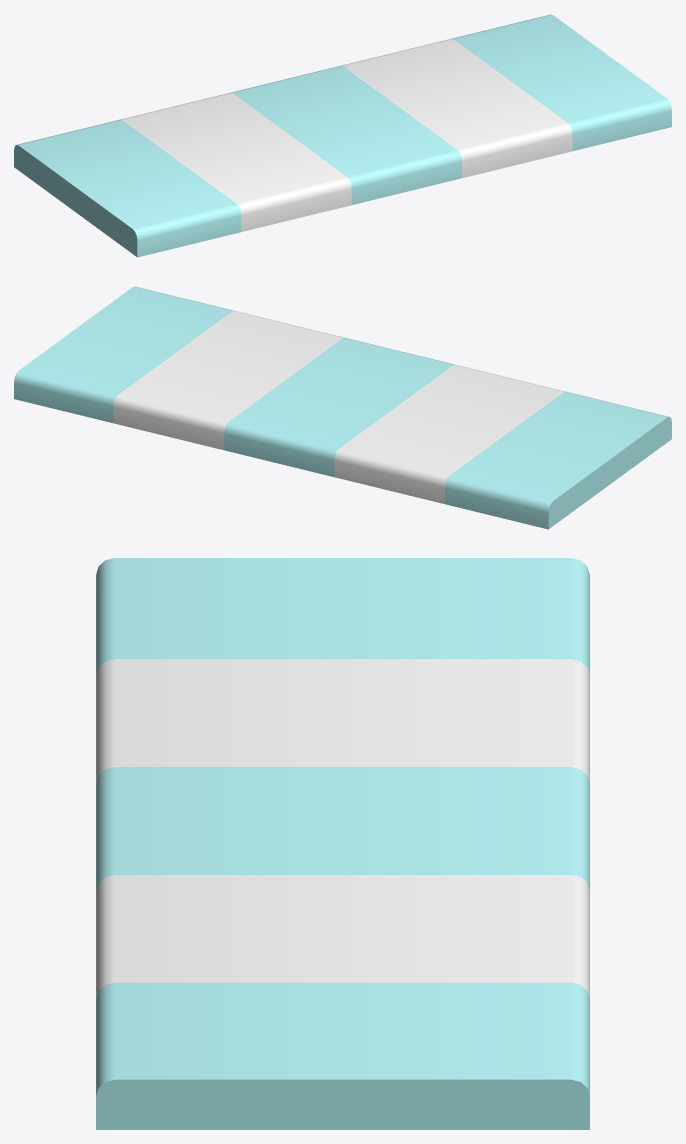
File: RoadStraight2_blue.fbx
3 renders of one model, top to bottom at view 1: azimuth 30°, elevation 25°; view 2: azimuth 150°, elevation 25°; view 3: azimuth 270°, elevation 25°, orthographic. The views are drawn at different scales.
Parts seen in each view (by area): view 1: RoadStraight2; view 2: RoadStraight2; view 3: RoadStraight2.
Part boxes in pixels (box(x1,y1,x2,y2)): RoadStraight2: box(14, 14, 671, 257); RoadStraight2: box(14, 286, 671, 529); RoadStraight2: box(96, 558, 589, 1129).
Bounding box in the file's own units: 750 × 33.61 × 300.
1 material, 1 textured.
